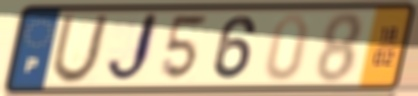0: (262, 11, 312, 84)
5: (157, 13, 211, 85)
6: (212, 13, 259, 83)
8: (314, 10, 366, 86)
J: (103, 11, 163, 88)
U: (48, 13, 112, 86)
